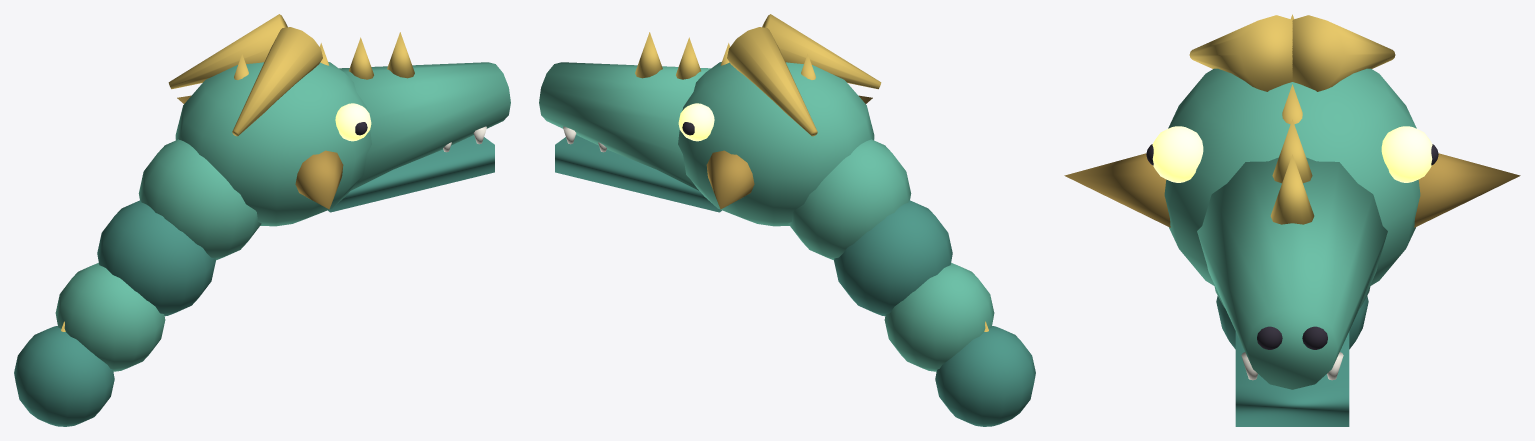
The model's file is figurehead_dragon.glb.
3 renders of one model, left to right at view 1: azimuth 30°, elevation 25°; view 2: azimuth 150°, elevation 25°; view 3: azimuth 270°, elevation 25°, orthographic. The views are drawn at different scales.
Parts seen in each view (by area): view 1: Sphere, Cone, Sphere.008, Sphere.007, Sphere.009, Sphere.010, Cube, Cone.009, Cone.011, Cone.010, Sphere.001, Cone.017 (+1 smaller); view 2: Sphere, Cone, Sphere.008, Sphere.007, Sphere.009, Sphere.010, Cube, Cone.011, Cone.009, Cone.012, Sphere.004, Cone.017 (+1 smaller); view 3: Cone, Sphere, Cube, Cone.009, Cone.011, Cone.010, Cone.012, Sphere.001, Sphere.004, Cone.017, Cone.016, Sphere.010 (+3 smaller).
Boxes of the visible parts, <box> form: Sphere: <box>175,62,371,226</box>; Cone: <box>339,62,510,190</box>; Sphere.008: <box>97,200,215,316</box>; Sphere.007: <box>138,139,261,260</box>; Sphere.009: <box>55,263,165,371</box>; Sphere.010: <box>14,326,114,426</box>; Cube: <box>328,135,494,212</box>; Cone.009: <box>232,27,322,136</box>; Cone.011: <box>168,14,287,89</box>; Cone.010: <box>295,150,343,209</box>; Sphere.001: <box>335,103,371,141</box>; Cone.017: <box>387,32,414,78</box>; Sphere: <box>678,62,874,226</box>; Cone: <box>539,62,710,190</box>; Sphere.008: <box>834,200,952,316</box>; Sphere.007: <box>788,139,911,260</box>; Sphere.009: <box>884,263,994,371</box>; Sphere.010: <box>935,326,1035,426</box>; Cube: <box>555,135,721,212</box>; Cone.011: <box>727,27,817,136</box>; Cone.009: <box>762,14,881,89</box>; Cone.012: <box>706,150,754,209</box>; Sphere.004: <box>678,103,714,141</box>; Cone.017: <box>635,32,662,78</box>; Cone: <box>1197,157,1387,389</box>; Sphere: <box>1164,68,1420,286</box>; Cube: <box>1235,331,1349,426</box>; Cone.009: <box>1189,15,1292,91</box>; Cone.011: <box>1292,15,1395,91</box>; Cone.010: <box>1064,153,1170,227</box>; Cone.012: <box>1414,153,1520,227</box>; Sphere.001: <box>1152,126,1203,182</box>; Sphere.004: <box>1381,126,1432,182</box>; Cone.017: <box>1270,154,1314,224</box>; Cone.016: <box>1272,119,1312,183</box>; Sphere.010: <box>1216,296,1368,349</box>.
Bounding box in the file's own units: 1.46 × 1 × 0.8031.
